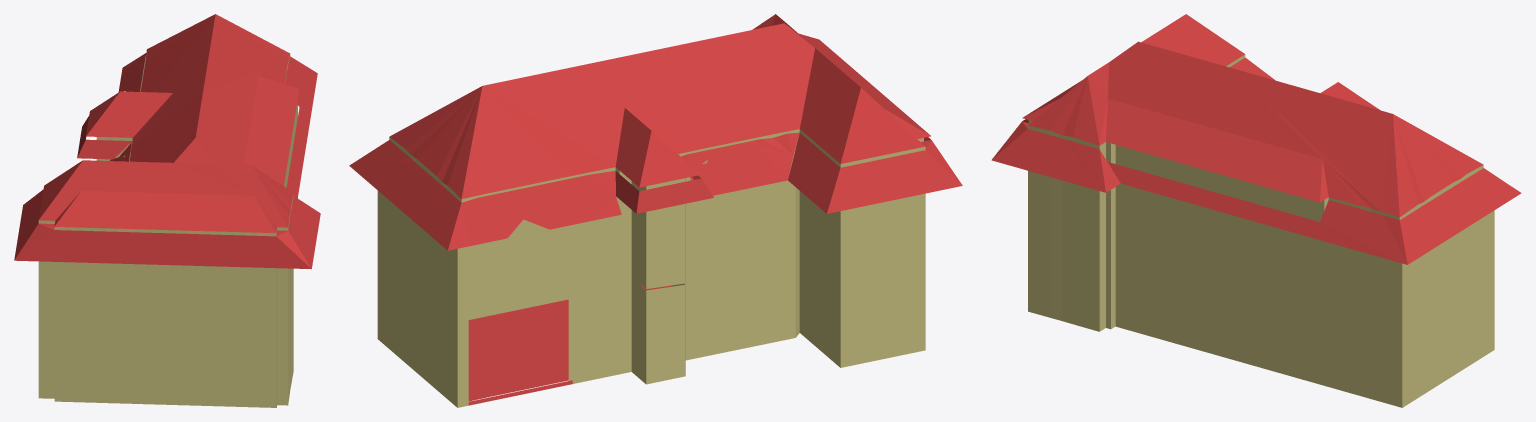
3 renders of one model, left to right at view 1: azimuth 30°, elevation 25°; view 2: azimuth 150°, elevation 25°; view 3: azimuth 270°, elevation 25°, orthographic. The views are drawn at different scales.
Parts seen in each view (by area): view 1: group_19, group_17, group_9, group_18, group_30, group_10, group_26; view 2: group_17, group_19, group_11, group_9, group_24, group_20, group_15, group_7, group_21, group_10, group_13, group_18; view 3: group_19, group_17, group_11, group_9, group_10, group_18.
Boxes of the visible parts, box(x1,y1,x2,y2) form: group_19: box(38, 54, 293, 407); group_17: box(38, 14, 299, 232); group_9: box(14, 53, 320, 269); group_18: box(54, 90, 299, 233); group_30: box(86, 91, 172, 137); group_10: box(14, 65, 311, 268); group_26: box(77, 139, 132, 159); group_17: box(389, 14, 924, 198); group_19: box(389, 129, 925, 384); group_11: box(377, 190, 619, 407); group_9: box(349, 133, 962, 250); group_24: box(706, 186, 761, 355); group_20: box(468, 285, 670, 401); group_15: box(761, 136, 799, 344); group_7: box(685, 159, 708, 360); group_21: box(690, 141, 787, 195); group_10: box(397, 140, 961, 250); group_13: box(751, 132, 799, 179); group_18: box(620, 40, 930, 186); group_19: box(1028, 54, 1483, 385); group_17: box(1022, 14, 1483, 217); group_11: box(1324, 210, 1494, 407); group_9: box(991, 57, 1520, 264); group_10: box(992, 121, 1521, 219); group_18: box(1024, 80, 1317, 201).
Size of the model in its own units: 39.11 by 40.96 by 21.27.
